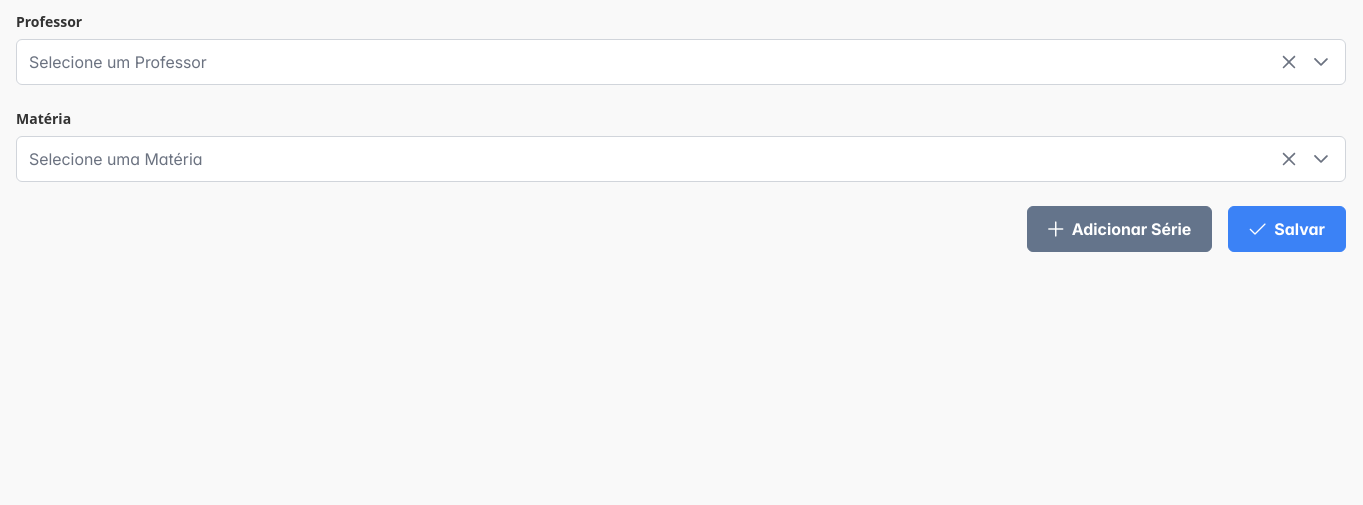
Test: NovoRelacionamentoForm › deve renderizar os campos após clicar em Adicionar Série
Check: the element with test id "teacher-dropdown" is shown, box x1=16 y1=39 x2=1346 y2=85
Check: the element with test id "matter-dropdown" is shown, box x1=16 y1=136 x2=1346 y2=182
Click the button "Adicionar Série".
click(1120, 229)  # box x1=1027 y1=206 x2=1212 y2=252
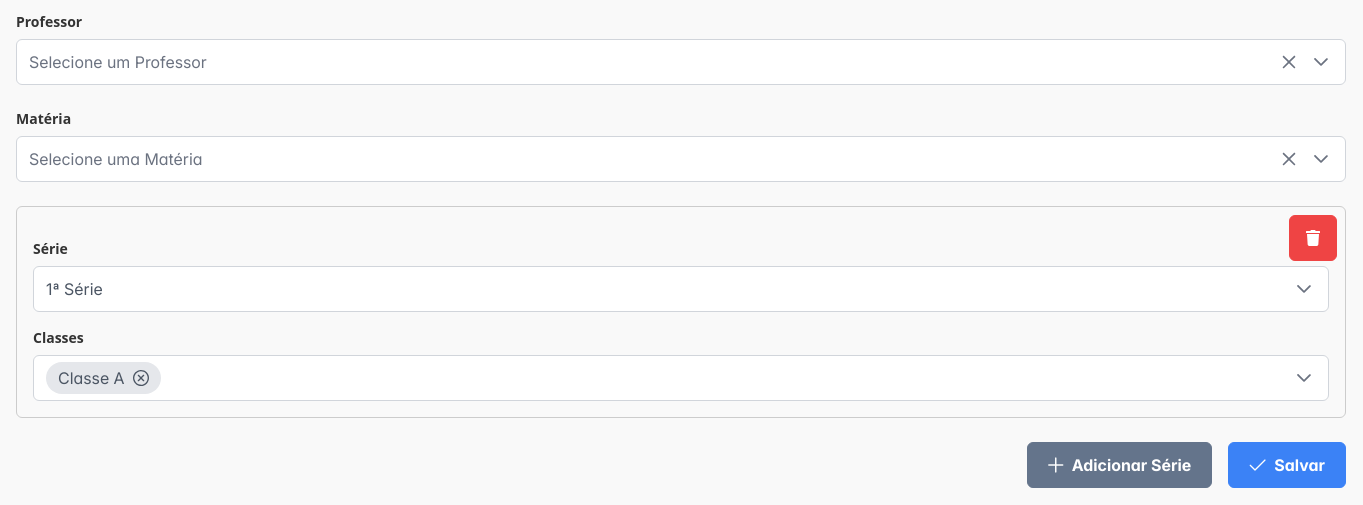
Check: the element with test id "degree-dropdown" is shown, box x1=33 y1=266 x2=1329 y2=312
Check: the element with test id "class-multiselect" is shown, box x1=33 y1=355 x2=1329 y2=401
